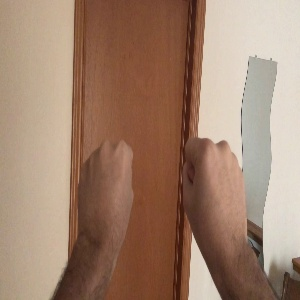hand: (182, 138, 246, 235), (79, 138, 134, 240)
